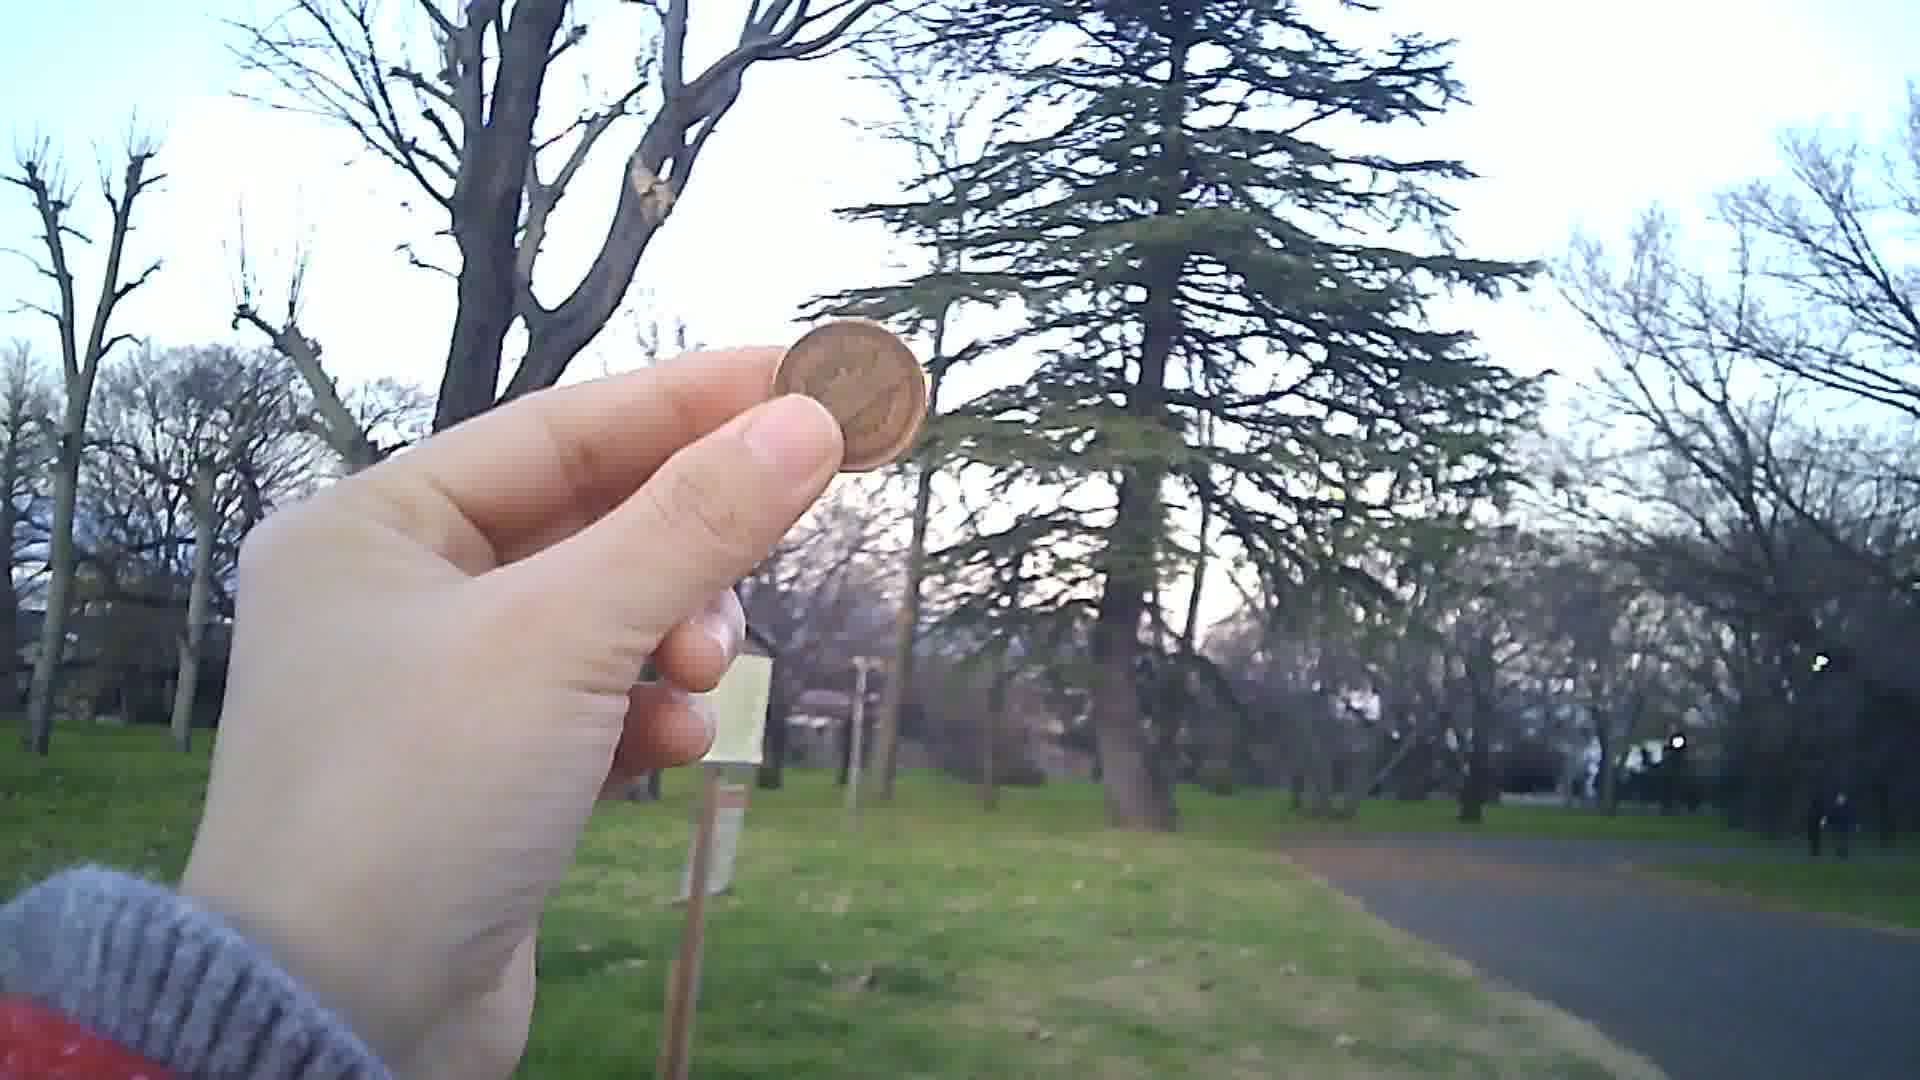10 Yen: (764, 318, 924, 483)
